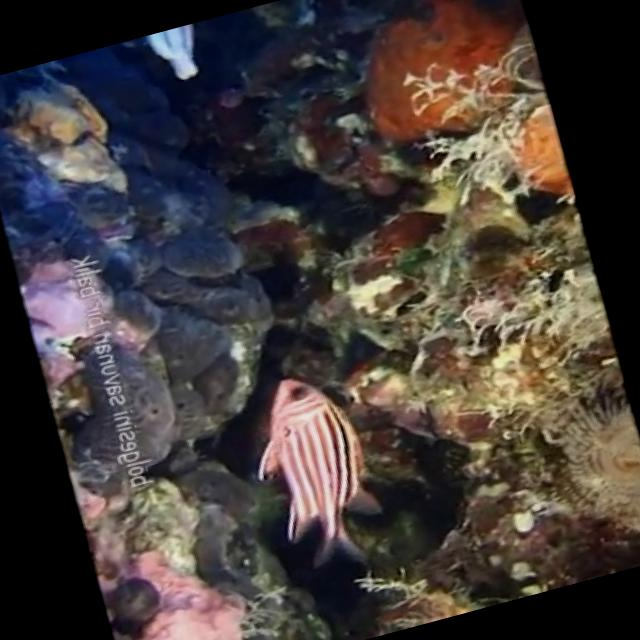Asker Baligi: (230, 360, 396, 584)
